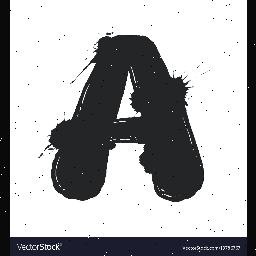a: (34, 26, 216, 210)
